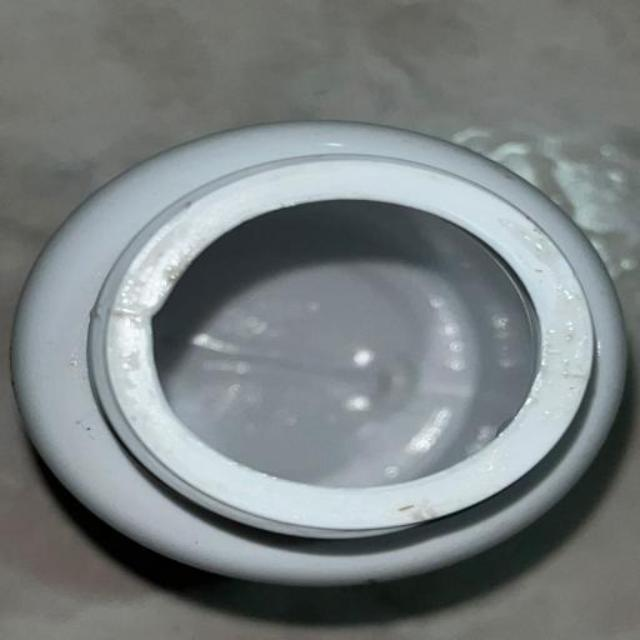HDPE: (20, 40, 640, 640)
